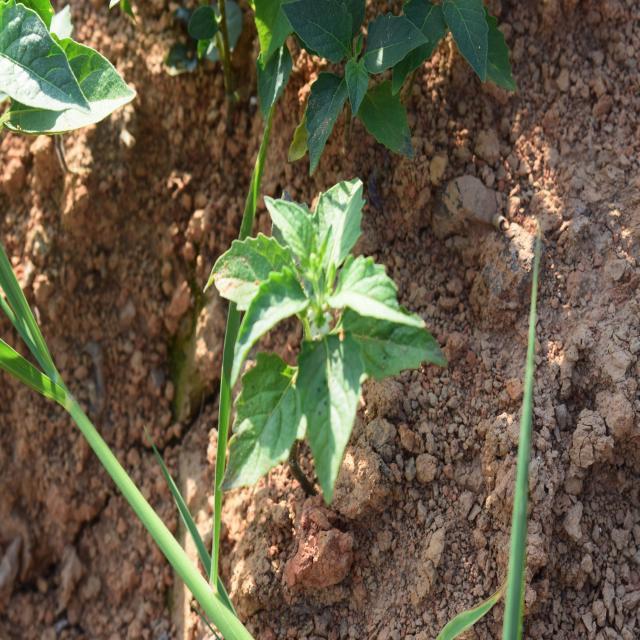Black_nightshade: (206, 172, 410, 477), (293, 0, 491, 157)
